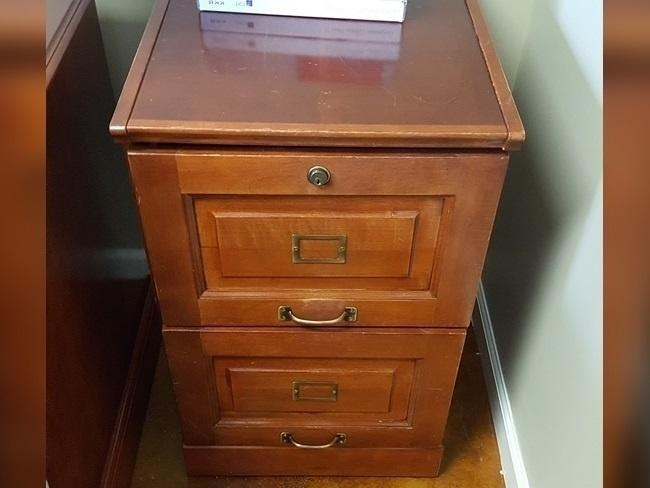cabinet_door: (148, 149, 483, 332), (175, 328, 447, 474)
handle: (281, 302, 362, 332), (280, 426, 351, 456)
